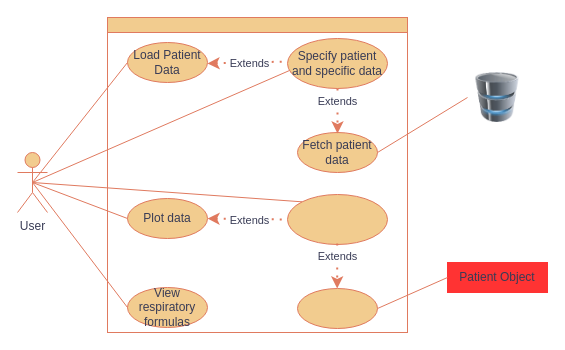
Image size: 565x350. Some labels were removed from this diagram. The box of each missing label's shape, as (x1, y1, x2, y2) in pixels:
Access Patient Data: (296, 288, 378, 328)
Patient Data Manager: (106, 16, 408, 32)
Patient Database: (467, 72, 527, 122)
Specify columns, specify timeframe: (286, 194, 388, 244)
